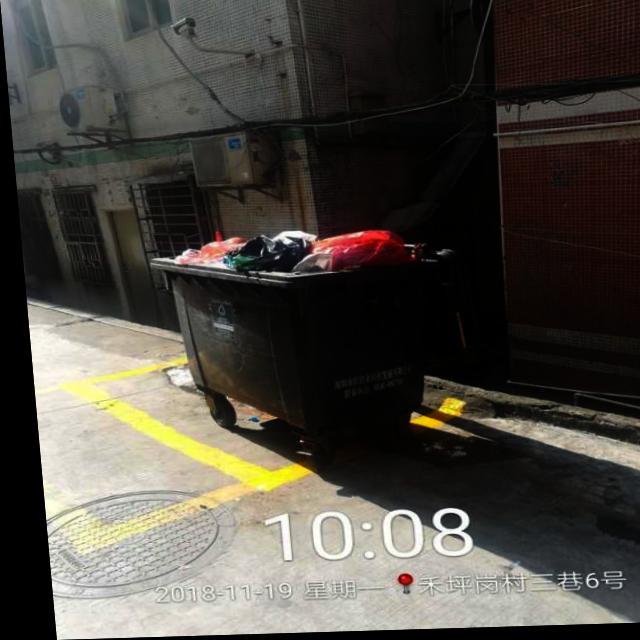overflow: (145, 227, 483, 436)
